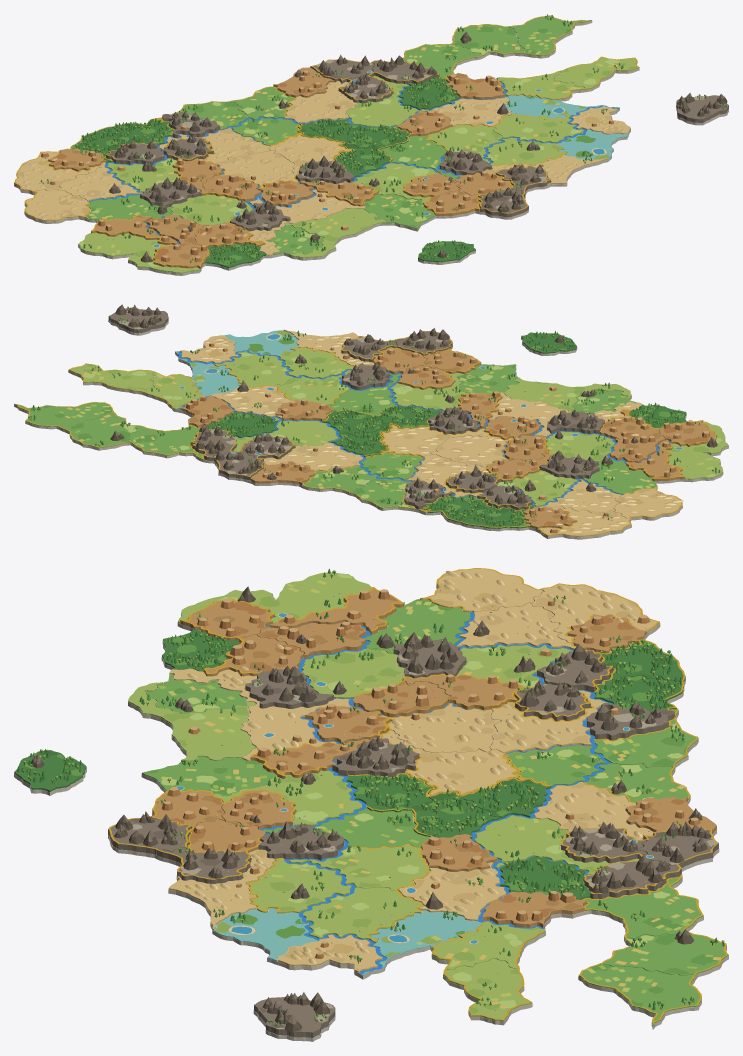
The model's file is board.fbx.
3 renders of one model, top to bottom at view 1: azimuth 30°, elevation 25°; view 2: azimuth 150°, elevation 25°; view 3: azimuth 270°, elevation 25°, orthographic. The views are drawn at different scales.
Visible parts, largest first — view 1: LandBase, Rivers, Ground_60, Ground_39, Ground_59, Ground_53, Ground_22, Ground_21, Ground_11, Ground_31, Ground_32, Ground_52 (+96 smaller); view 2: LandBase, Rivers, Ground_60, Ground_39, Ground_53, Ground_59, Ground_32, Ground_31, Ground_11, Ground_09, Ground_22, Ground_21 (+108 smaller); view 3: LandBase, Rivers, Ground_60, Ground_59, Ground_53, Ground_39, Ground_22, Ground_31, Ground_11, Ground_09, Ground_32, Ground_52 (+117 smaller).
Boxes of the visible parts, left/top/right/bottom form: LandBase: left=14, top=20, right=728, bottom=275; Rivers: left=88, top=78, right=618, bottom=244; Ground_60: left=284, top=208, right=388, bottom=258; Ground_39: left=78, top=232, right=199, bottom=273; Ground_59: left=249, top=189, right=365, bottom=255; Ground_53: left=493, top=114, right=583, bottom=142; Ground_22: left=345, top=75, right=429, bottom=127; Ground_21: left=284, top=81, right=356, bottom=123; Ground_11: left=509, top=16, right=591, bottom=55; Ground_31: left=216, top=150, right=294, bottom=187; Ground_32: left=269, top=133, right=351, bottom=182; Ground_52: left=486, top=137, right=566, bottom=166; LandBase: left=14, top=319, right=728, bottom=539; Rivers: left=177, top=350, right=671, bottom=506; Ground_60: left=504, top=377, right=631, bottom=412; Ground_39: left=667, top=421, right=728, bottom=479; Ground_53: left=214, top=351, right=293, bottom=388; Ground_59: left=488, top=392, right=642, bottom=436; Ground_32: left=381, top=425, right=490, bottom=457; Ground_31: left=430, top=434, right=513, bottom=467; Ground_11: left=14, top=402, right=113, bottom=430; Ground_09: left=124, top=425, right=205, bottom=460; Ground_22: left=233, top=417, right=338, bottom=451; Ground_21: left=262, top=442, right=363, bottom=471; LandBase: left=14, top=581, right=728, bottom=1041; Rivers: left=259, top=612, right=613, bottom=974; Ground_60: left=128, top=682, right=255, bottom=761; Ground_59: left=169, top=668, right=351, bottom=760; Ground_53: left=303, top=887, right=424, bottom=942; Ground_39: left=178, top=572, right=371, bottom=623; Ground_22: left=474, top=815, right=638, bottom=875; Ground_31: left=382, top=703, right=500, bottom=752; Ground_11: left=578, top=963, right=701, bottom=1025; Ground_09: left=584, top=874, right=703, bottom=938; Ground_32: left=371, top=730, right=524, bottom=795; Ground_52: left=246, top=858, right=351, bottom=913.
Bounding box in the file's own units: 1419 × 33.75 × 915.
87 materials, 1 textured.
